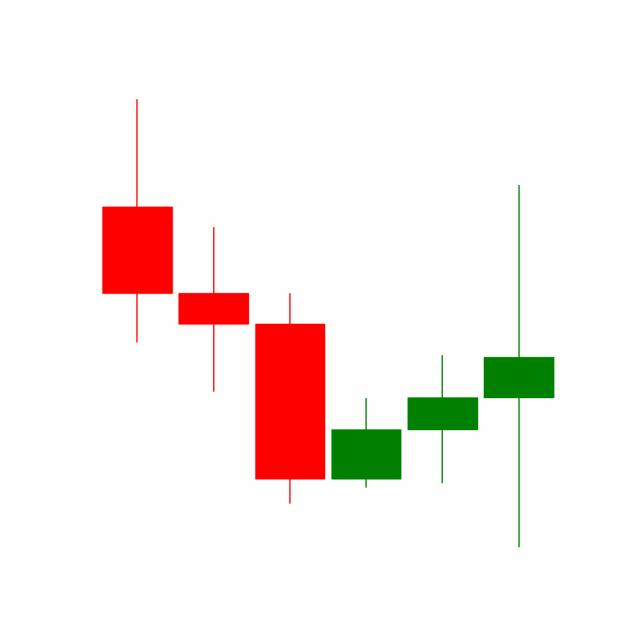Spinning Top: (403, 353, 481, 485)
